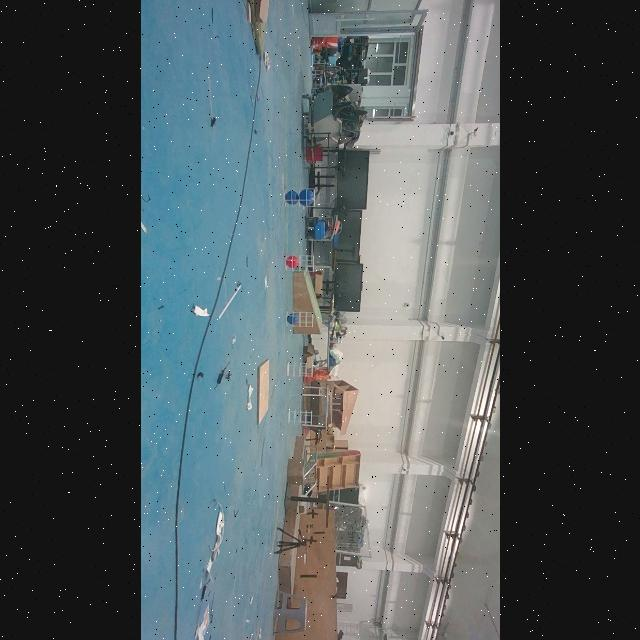B: (298, 188, 312, 206), (286, 190, 298, 206), (287, 312, 297, 326)
R: (286, 255, 298, 269)
S: (282, 187, 316, 210), (282, 252, 316, 274), (284, 308, 316, 329), (284, 360, 316, 380), (286, 408, 314, 426)
